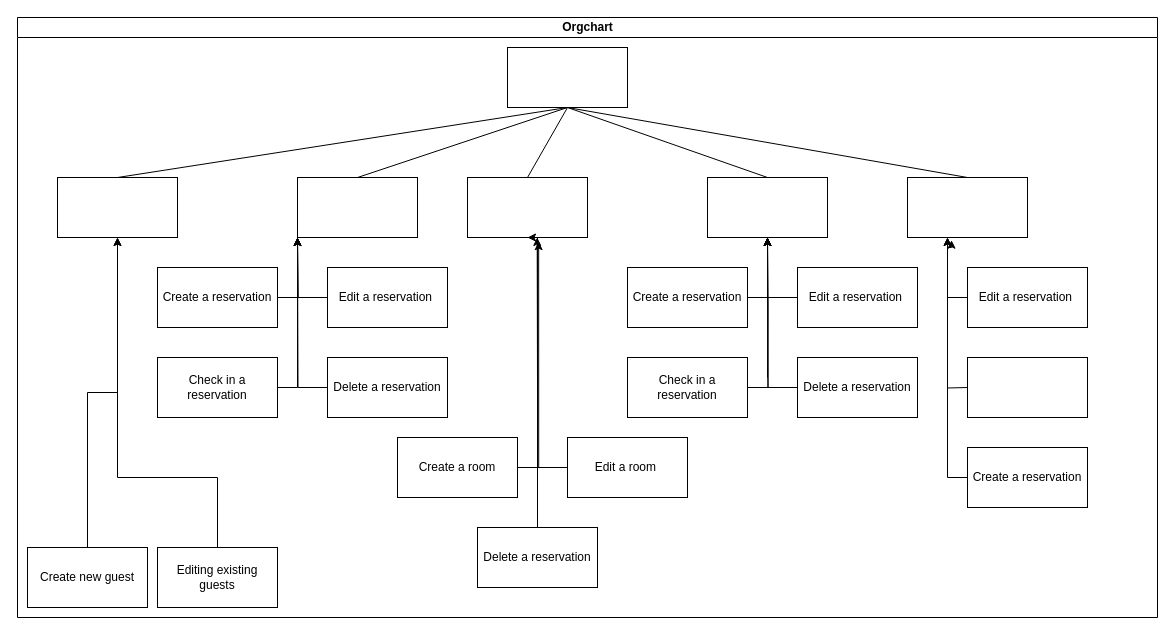
Image size: 1175x635. Some labels were removed from this diagram. The shapes that lost their labels are listed below. From the top down, each one's centre as x and y in pixels, then its label:
At (x=567, y=77): "Home Page".
At (x=117, y=207): "Guests".
At (x=357, y=207): "Reservations".
At (x=527, y=207): "Rooms".
At (x=767, y=207): "Arrivals".
At (x=967, y=207): "In House".
At (x=1027, y=387): "Check Out a reservation".
